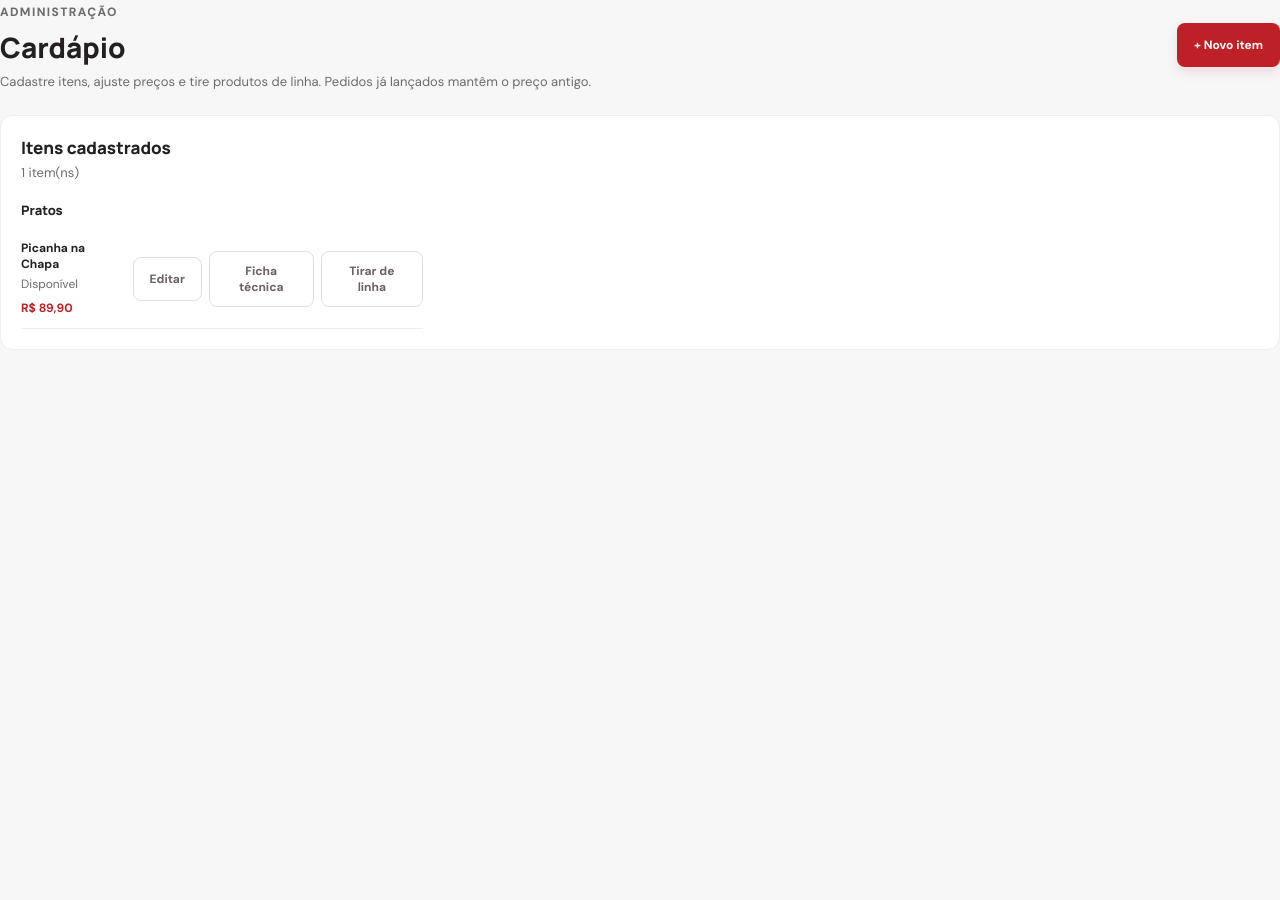
Scenario: Insumos, ficha técnica e CMV (RN-15) › ficha técnica: edita as linhas, estima custo e margem e envia a ficha inteira
Click the button "Ficha técnica" at (261, 278), box [209,250,314,306]
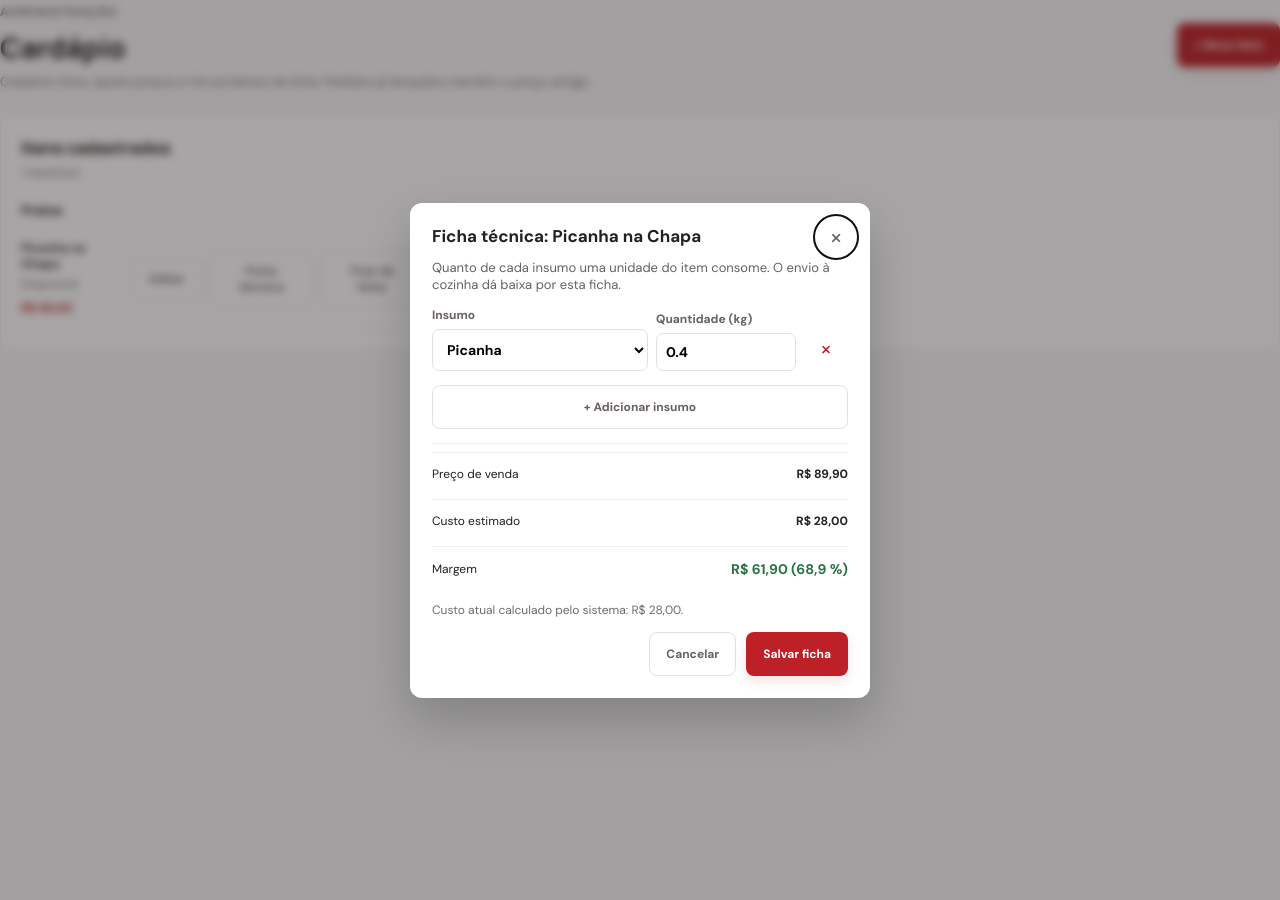
Now the number field showing "0.4" is shown, box [656,332,796,370]
Now the text "R$ 28,00" is shown, box [796,512,848,528]
Click the button "+ Adicionar insumo" at (640, 406), box [432,384,848,428]
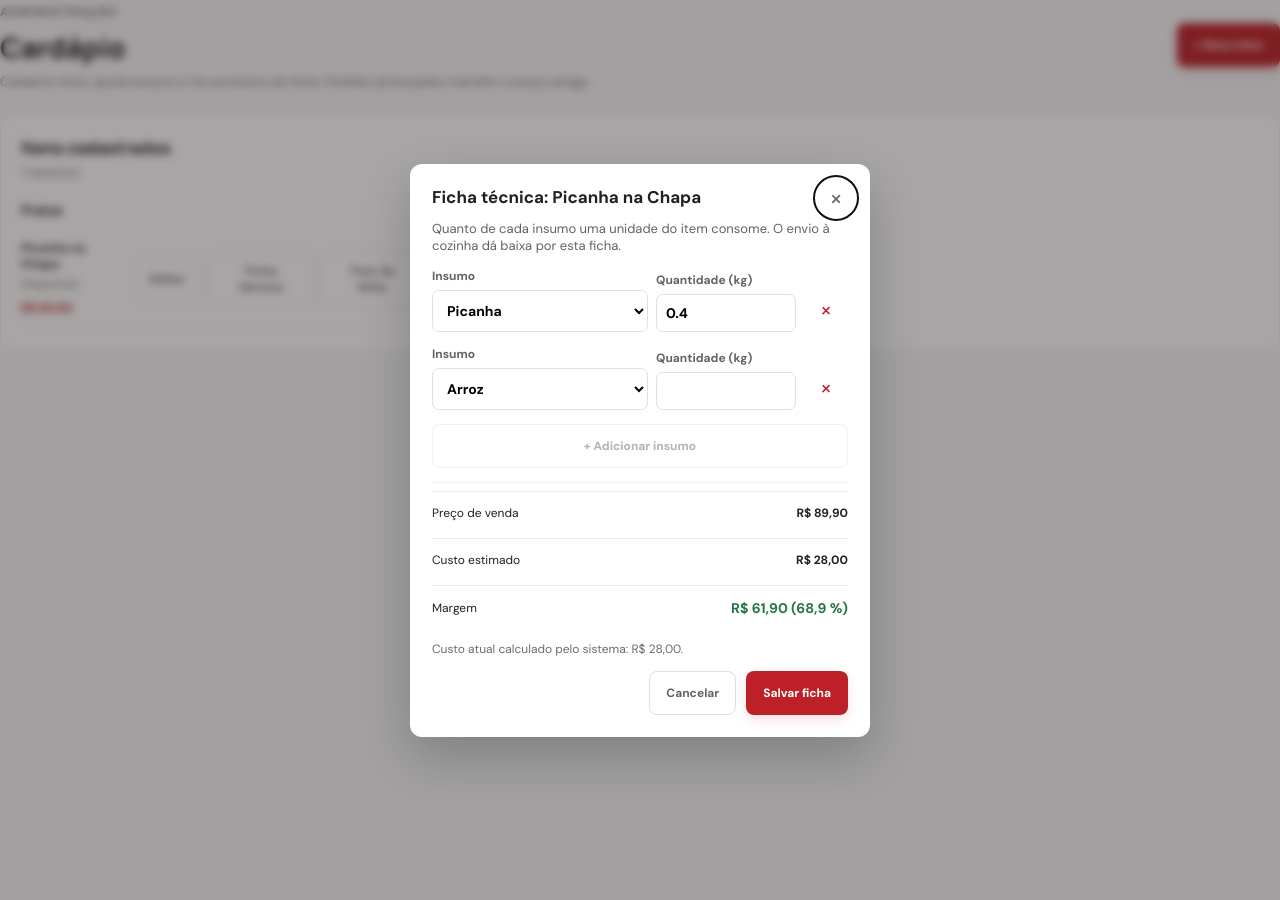
Now the 2nd dropdown labelled "Insumo" shows "Arroz", box [432,368,648,410]
Type "0.15" into the 2nd number field labelled "Quantidade (kg)" at (726, 390), box [656,372,796,410]
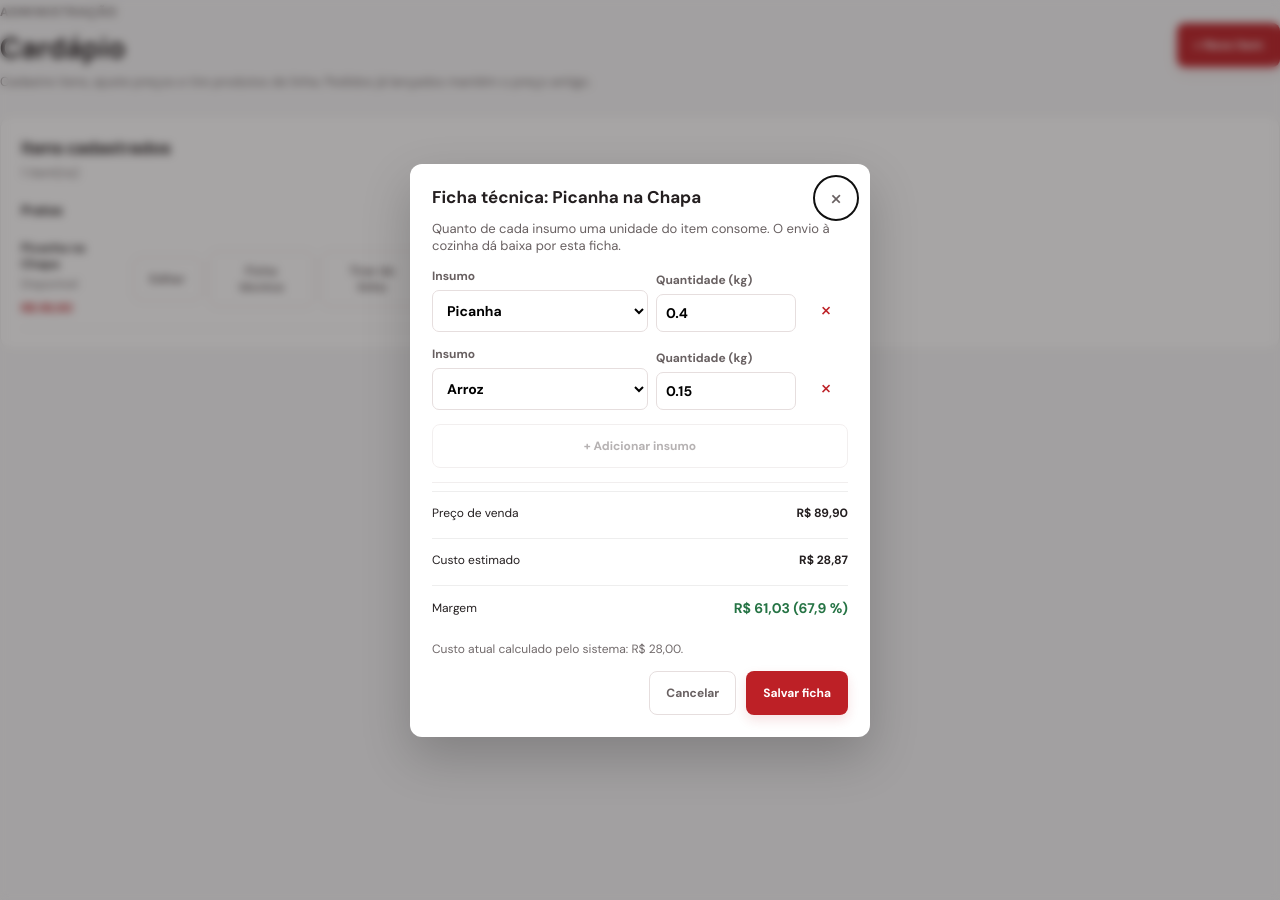
Now the text "R$ 28,87" is shown, box [799,552,848,568]
Now the text "R$ 61,03 (67,9 %)" is shown, box [734,598,848,616]
Click the button "Salvar ficha" at (797, 692), box [746,670,848,714]
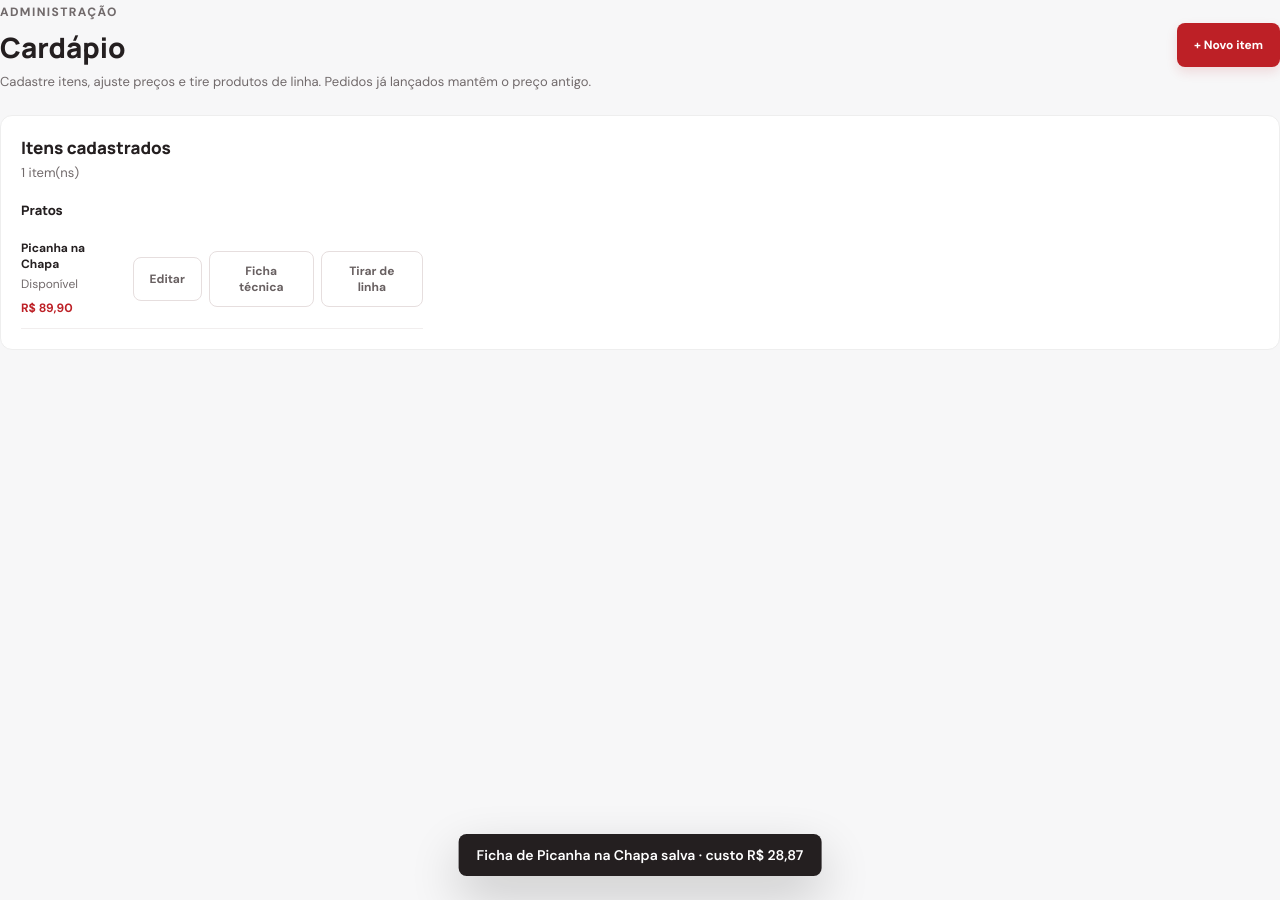
Now the message reads "Ficha de Picanha na Chapa salva · custo R$ 28,87", box [477,846,803,864]
